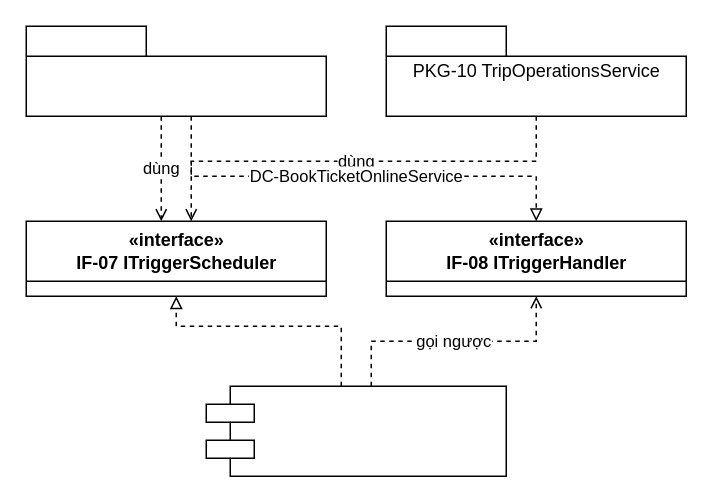
This 713x503 diagram has some shape labels left out. The box of each missing label's shape, as (x1, y1, x2, y2) in pixels:
PKG-09 TicketSalesService: (25, 25, 326, 116)
«subsystem» SS-05 TriggerScheduling: (205, 385, 506, 476)
